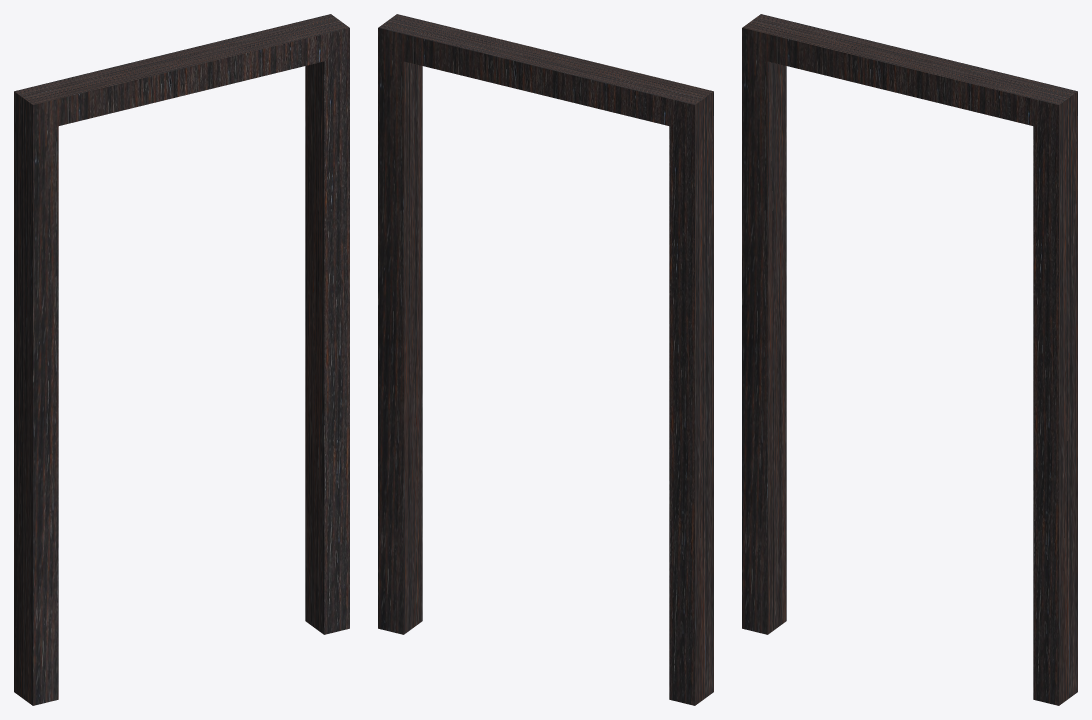
File: Door-Frame.fbx
3 renders of one model, left to right at view 1: azimuth 30°, elevation 25°; view 2: azimuth 150°, elevation 25°; view 3: azimuth 330°, elevation 25°, orthographic.
Visible parts, largest first — view 1: Door_Frame; view 2: Door_Frame; view 3: Door_Frame.
Boxes of the visible parts, x1,y1,x2,y2 form: Door_Frame: [14, 14, 349, 705]; Door_Frame: [378, 14, 713, 705]; Door_Frame: [742, 14, 1077, 705].
Bounding box in the file's own units: 3.58 × 6.48 × 0.3699.
